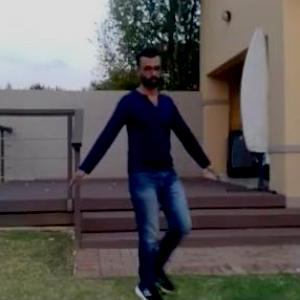land: (72, 64, 209, 287)
